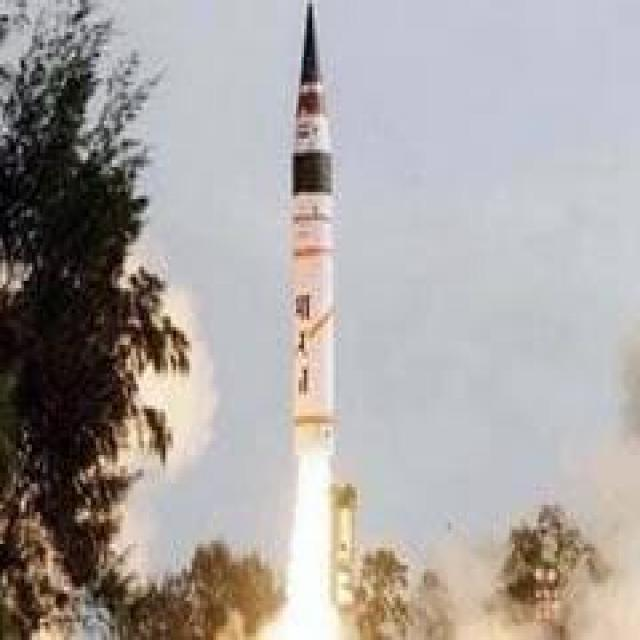Missile: (281, 4, 342, 468)
